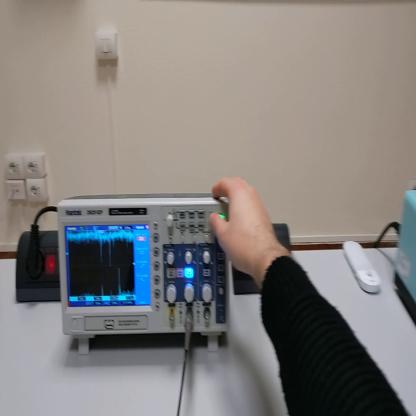hand: (209, 177, 276, 279)
oscilloscope: (55, 193, 229, 356)
socket: (13, 232, 63, 305)
welder station: (396, 192, 416, 326)
